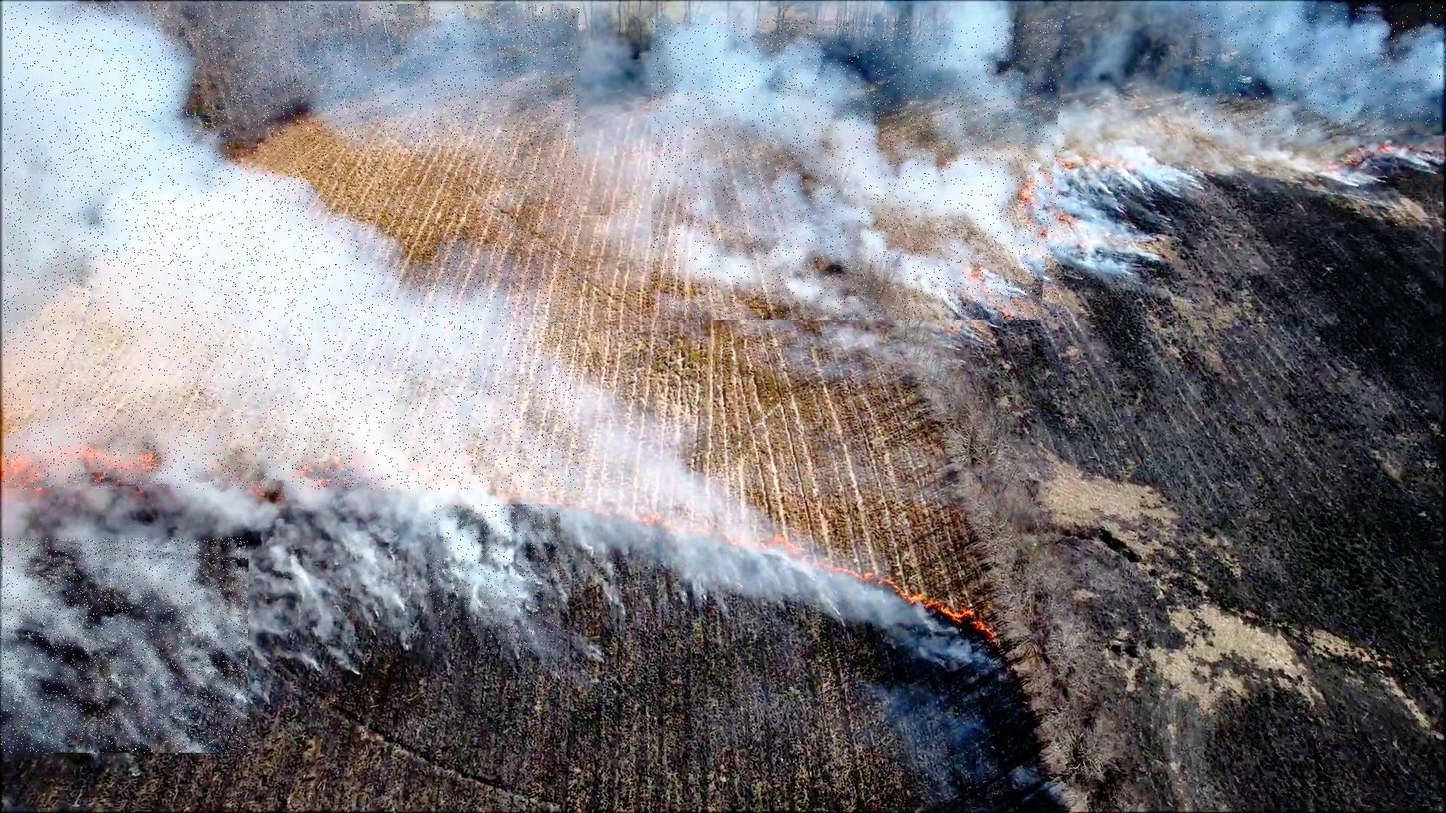smoke: (4, 4, 580, 489), (651, 19, 1066, 320), (0, 538, 249, 753), (1190, 4, 1446, 136), (429, 504, 561, 651)
